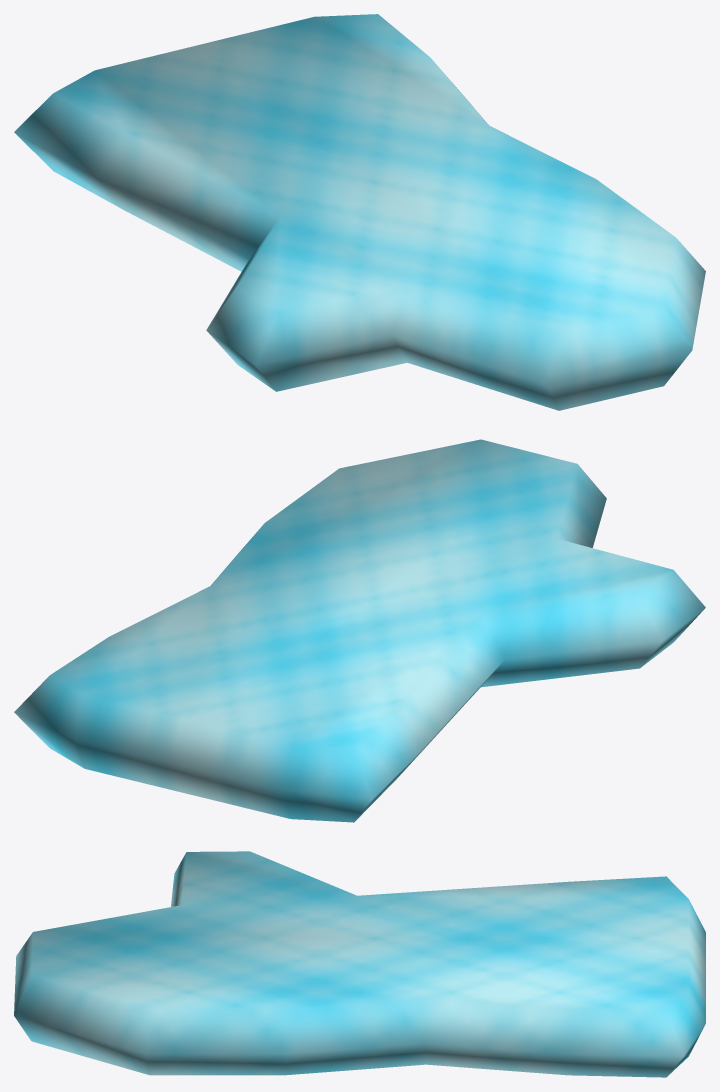
File: Oven_mitt_B.FBX
3 renders of one model, top to bottom at view 1: azimuth 30°, elevation 25°; view 2: azimuth 150°, elevation 25°; view 3: azimuth 270°, elevation 25°, orthographic. The views are drawn at different scales.
Visible parts, largest first — view 1: Mitt; view 2: Mitt; view 3: Mitt.
Boxes of the visible parts, x1,y1,x2,y2 form: Mitt: (14, 14, 705, 410); Mitt: (14, 439, 705, 822); Mitt: (14, 851, 705, 1077).
Bounding box in the file's own units: 68.93 × 11.61 × 110.
